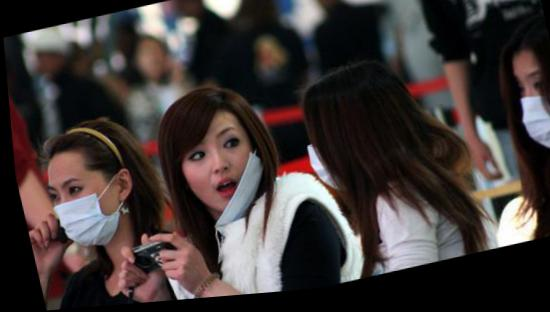OK: (41, 163, 133, 254), (500, 66, 550, 170)
WRONG: (176, 126, 264, 223)
